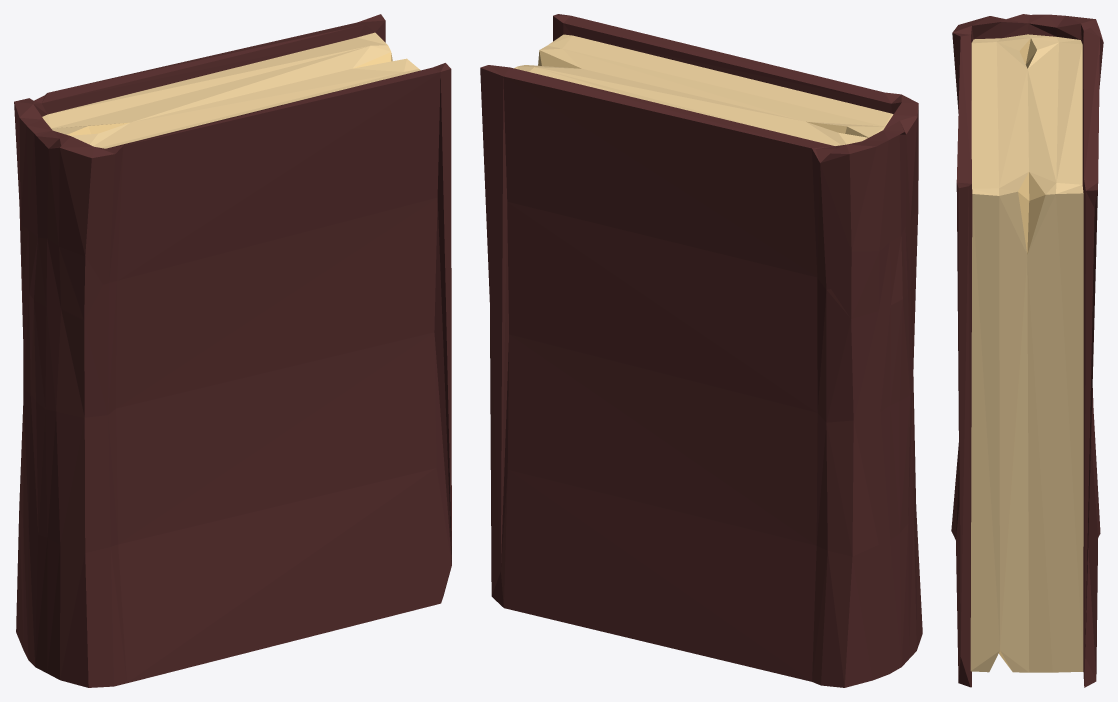
The model's file is AWS_Book_Red_004.fbx.
3 renders of one model, left to right at view 1: azimuth 30°, elevation 25°; view 2: azimuth 150°, elevation 25°; view 3: azimuth 270°, elevation 25°, orthographic. The views are drawn at different scales.
Parts seen in each view (by area): view 1: AWS_Book_Red_004; view 2: AWS_Book_Red_004; view 3: AWS_Book_Red_004.
Boxes of the visible parts, x1,y1,x2,y2 form: AWS_Book_Red_004: (14, 14, 451, 687); AWS_Book_Red_004: (480, 14, 922, 687); AWS_Book_Red_004: (951, 14, 1103, 687).
Bounding box in the file's own units: 18.46 × 24.7 × 6.74.
